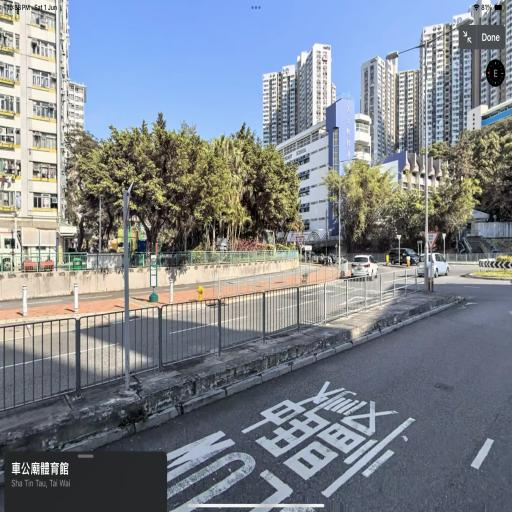Roads: (47, 253, 507, 483)
Trees: (62, 106, 308, 258)
